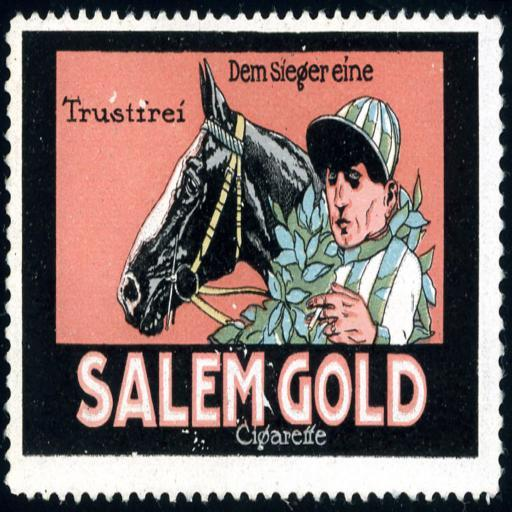Horse: (115, 56, 326, 337)
